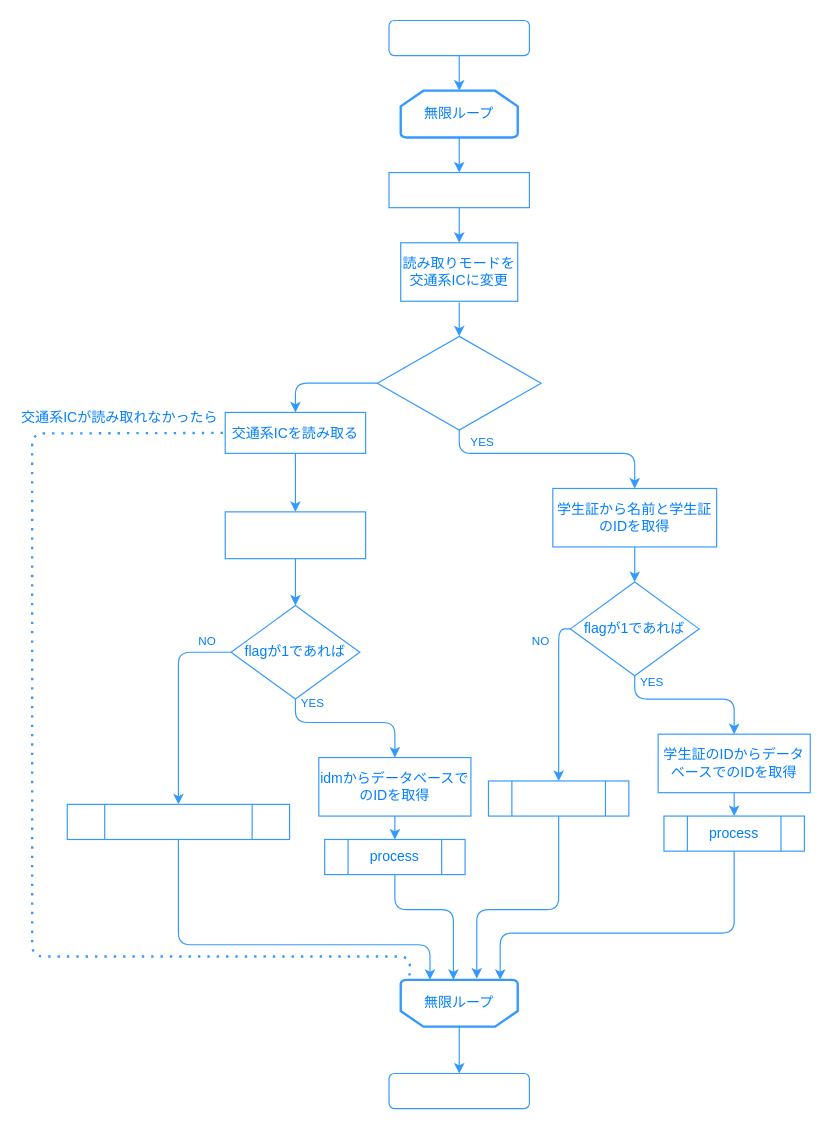
The diagram is 831 pixels wide and 1129 high, and some of its shapes have lost their labels. Here are the shapes that lost their labels. From the top down, the centre of each, then its label:
At (x=458, y=189): "学生証を読み取る".
At (x=458, y=382): "学生証が読み取れたら".
At (x=295, y=535): "idmを取り出す".
At (x=558, y=798): "regist_univ".
At (x=178, y=821): "regist_transportation".
